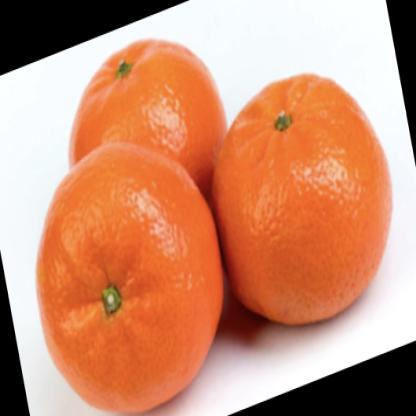fresh: (36, 36, 394, 416)
